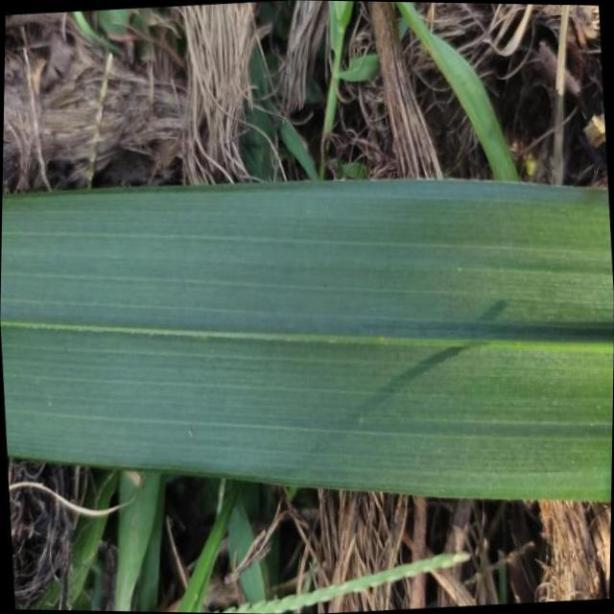Healthy: (0, 174, 614, 504)
